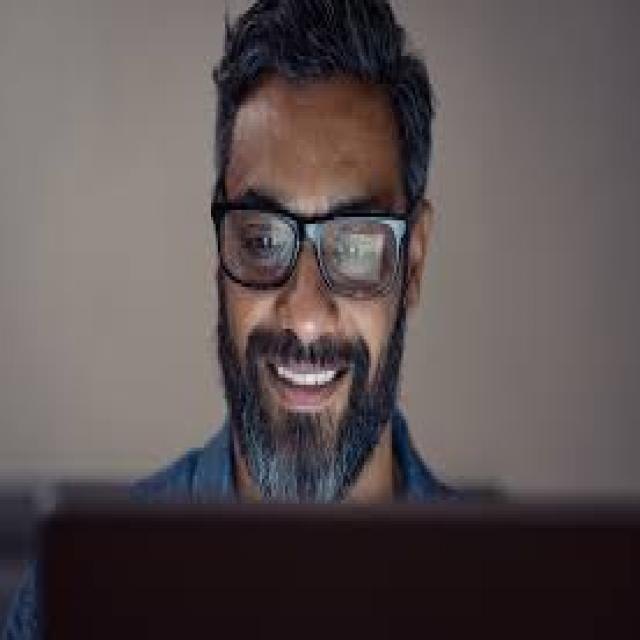Glasses: (213, 176, 414, 300)
